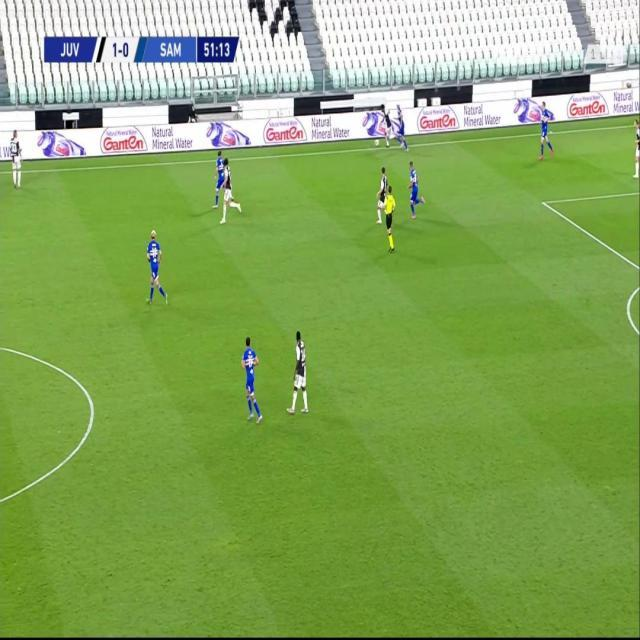ball: (374, 138, 380, 147)
player: (240, 333, 264, 423), (287, 325, 310, 416), (145, 227, 169, 309), (220, 156, 242, 224), (407, 162, 426, 219), (538, 99, 554, 160), (9, 128, 24, 189), (393, 102, 409, 151), (376, 165, 389, 224), (213, 150, 225, 208), (381, 102, 396, 147), (631, 113, 640, 180)
referee: (385, 185, 398, 252)
